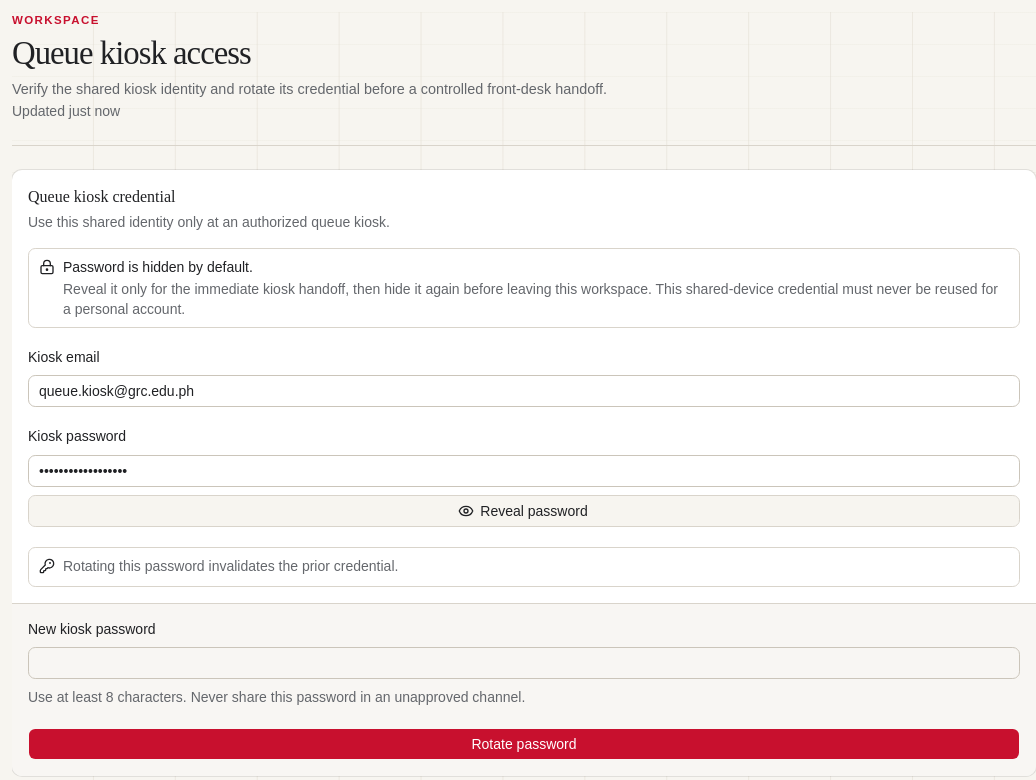
Test case: QueueKioskAccessWorkspace › keeps the password hidden by default and allows a guarded reveal
Expected: the text "Password is hidden by default." is shown, [63,259,253,275]
Step 1. Click the button "Reveal password" → click(524, 511), box [28,495,1020,527]
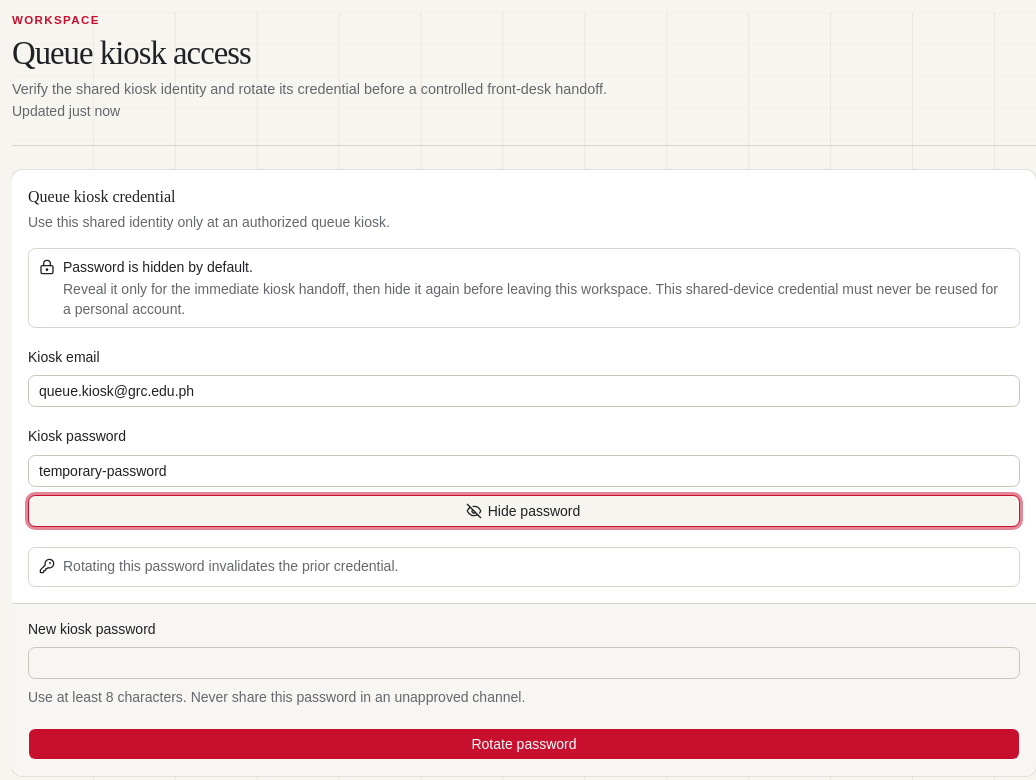
Expected: the field labelled "Kiosk password" holds "temporary-password", [28,455,1020,487]
Expected: the field labelled "Kiosk password" shows its text, [28,455,1020,487]
Step 2. Click the button "Hide password" → click(524, 511), box [28,495,1020,527]
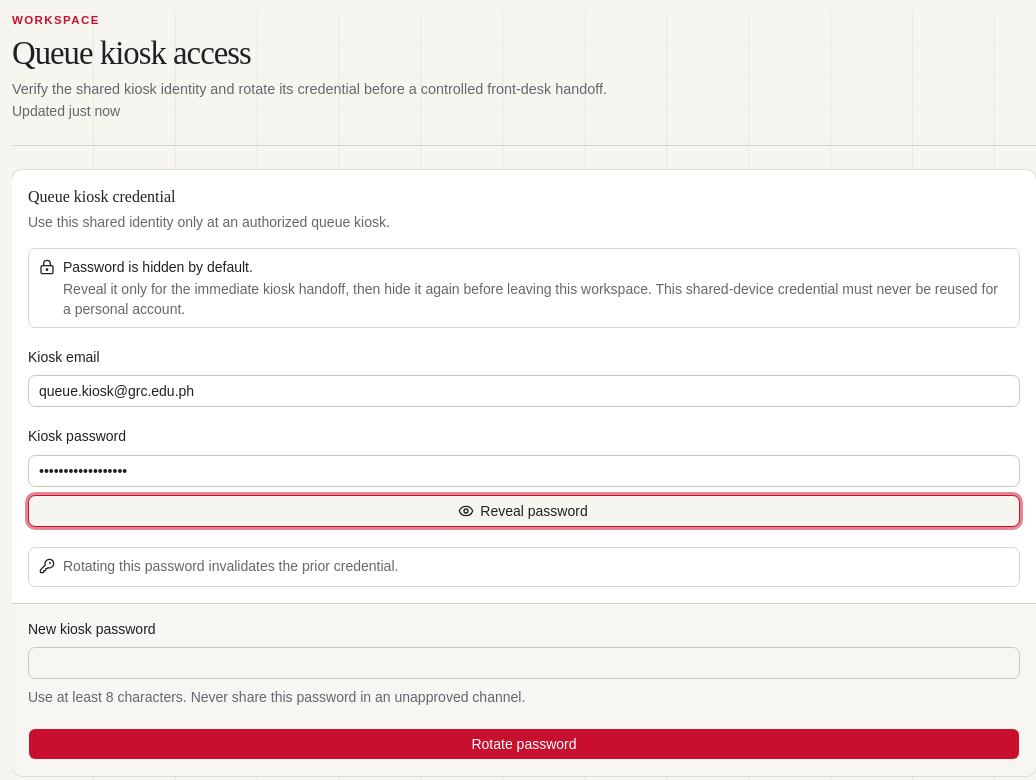
Expected: the password field labelled "Kiosk password" hides its text, [28,455,1020,487]
